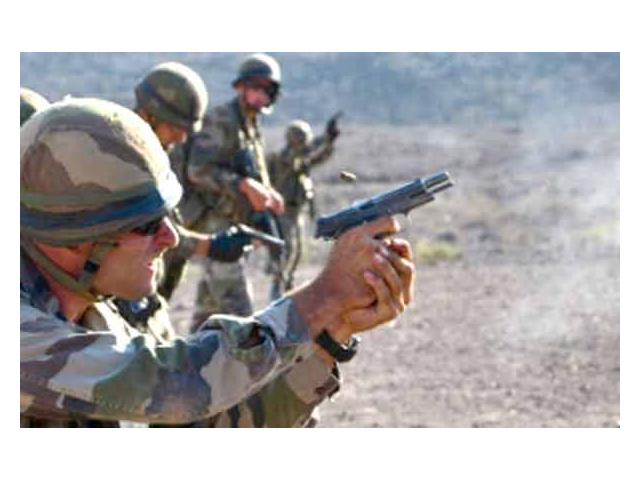pistol: (310, 170, 456, 293), (224, 221, 286, 269)
